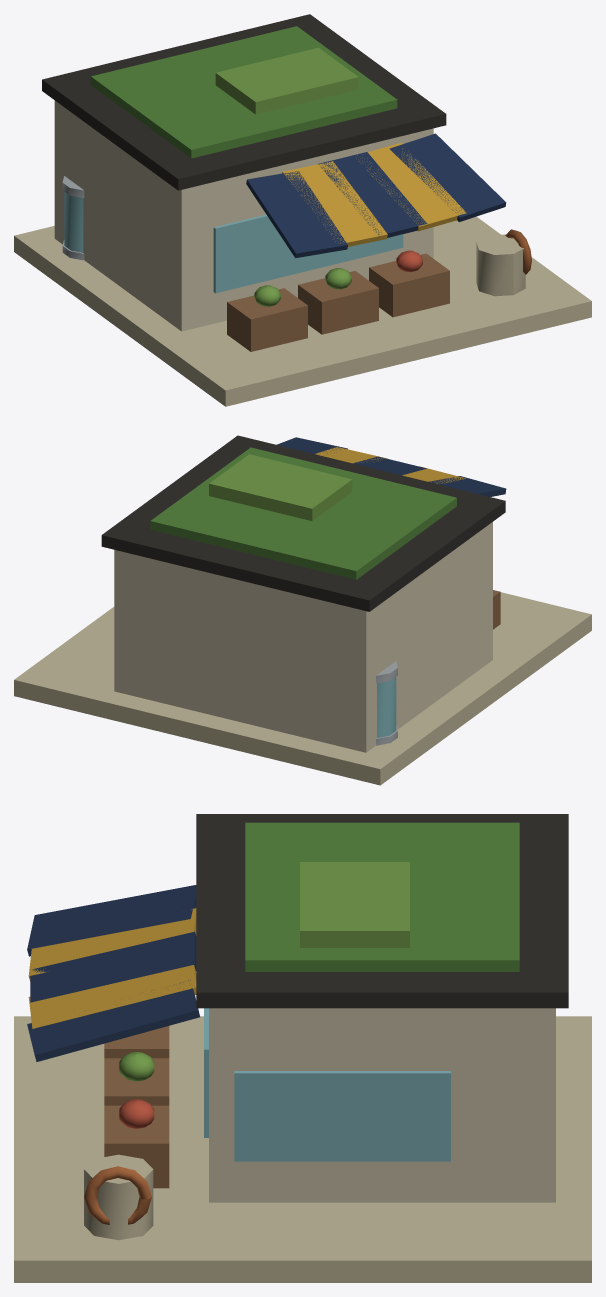
The model's file is b07-starter-shop-cafe-v2-lod0.glb.
3 renders of one model, top to bottom at view 1: azimuth 30°, elevation 25°; view 2: azimuth 150°, elevation 25°; view 3: azimuth 270°, elevation 25°, orthographic. The views are drawn at different scales.
Visible parts, largest first — view 1: MESH_B07_STARTER_SHOP_CAFE; view 2: MESH_B07_STARTER_SHOP_CAFE; view 3: MESH_B07_STARTER_SHOP_CAFE.
Boxes of the visible parts, box(x1,y1,x2,y2) form: MESH_B07_STARTER_SHOP_CAFE: box(14, 14, 591, 406); MESH_B07_STARTER_SHOP_CAFE: box(14, 435, 591, 785); MESH_B07_STARTER_SHOP_CAFE: box(14, 814, 591, 1282).
Bounding box in the file's own units: 8 × 4.07 × 8.
